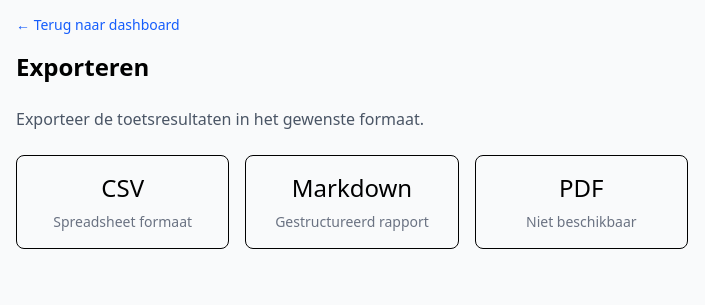
Test: Export › shows error message on export failure
Click the button "CSV Spreadsheet formaat" at (123, 202), box [16,155,229,249]
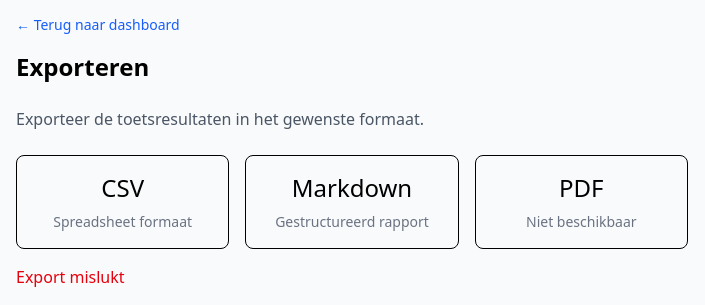
Expected: the text "Export mislukt" is shown, [16,266,124,288]
